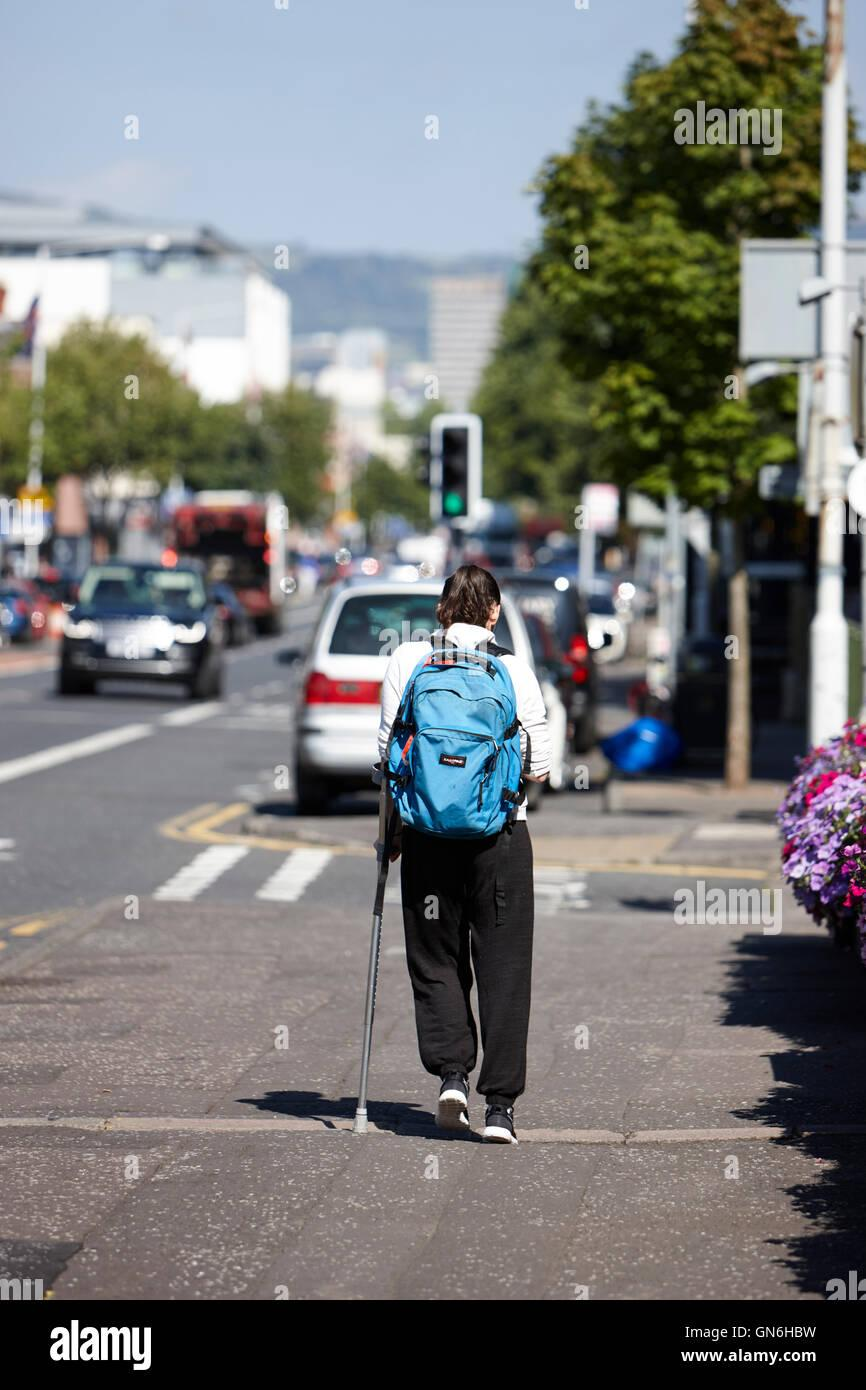crutches: (353, 563, 554, 1146)
